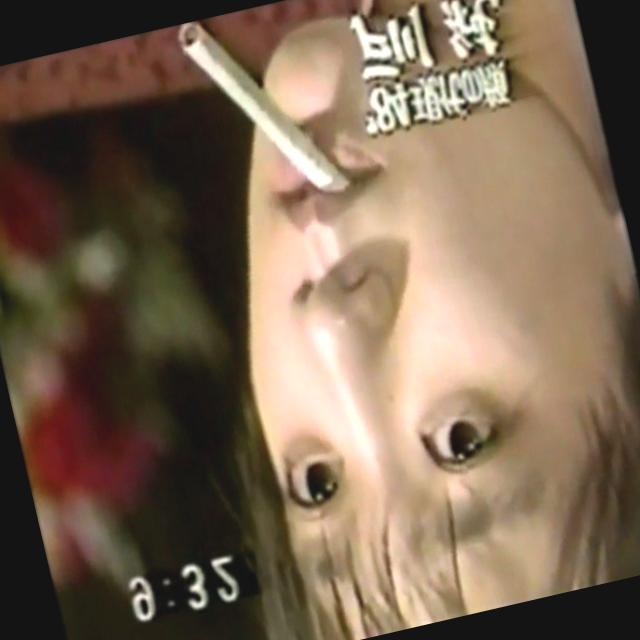cigarette: (169, 0, 358, 257)
